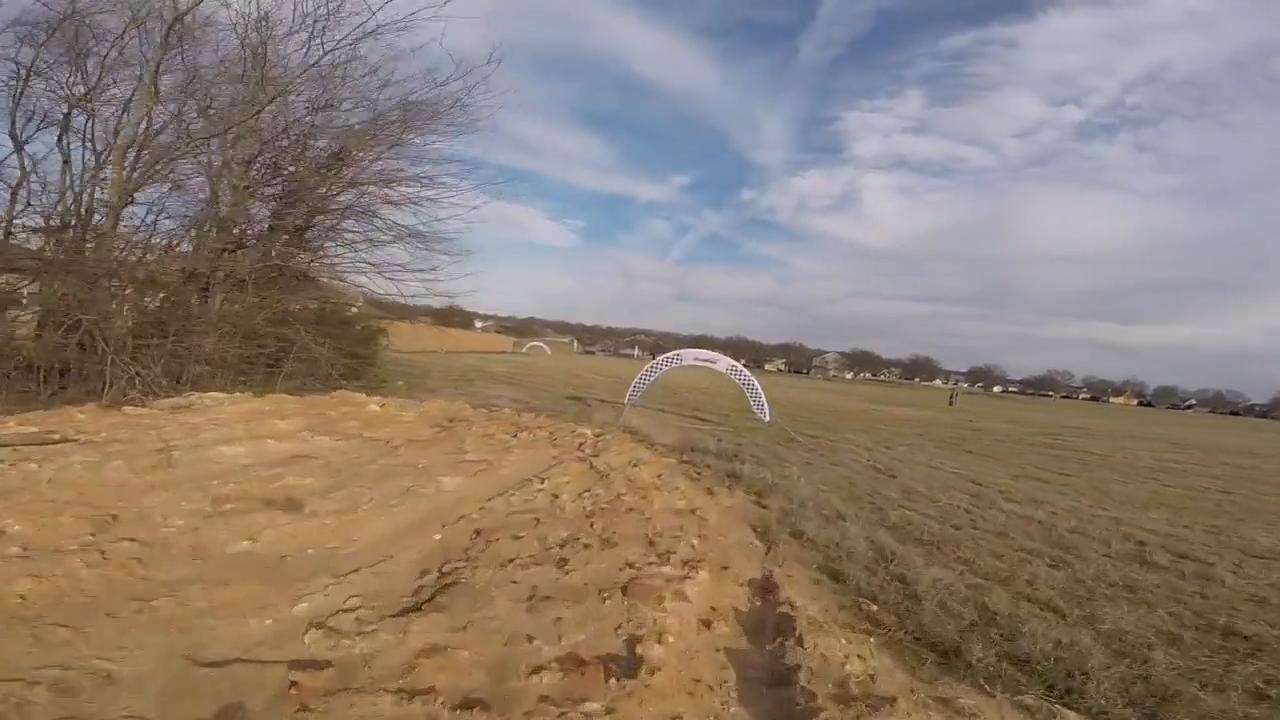gate: (623, 346, 772, 423)
